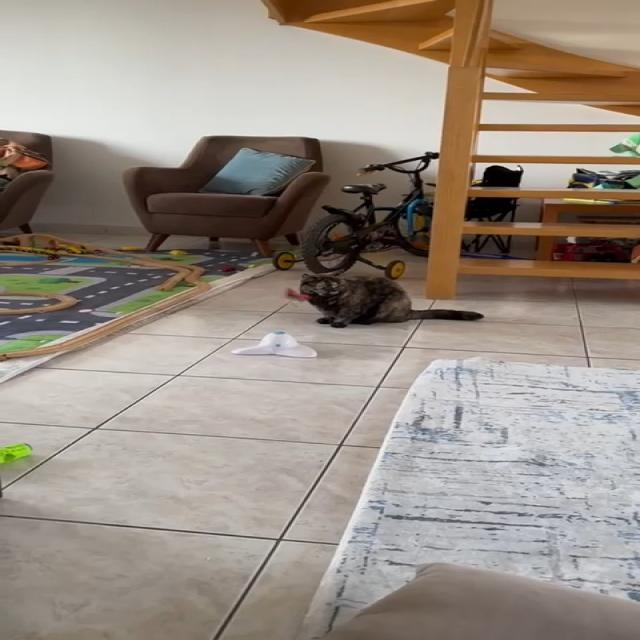authorized: (285, 272, 484, 328)
